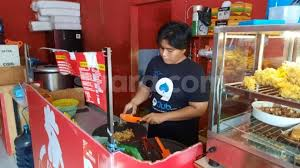ayam_geprek: (112, 127, 132, 143)
